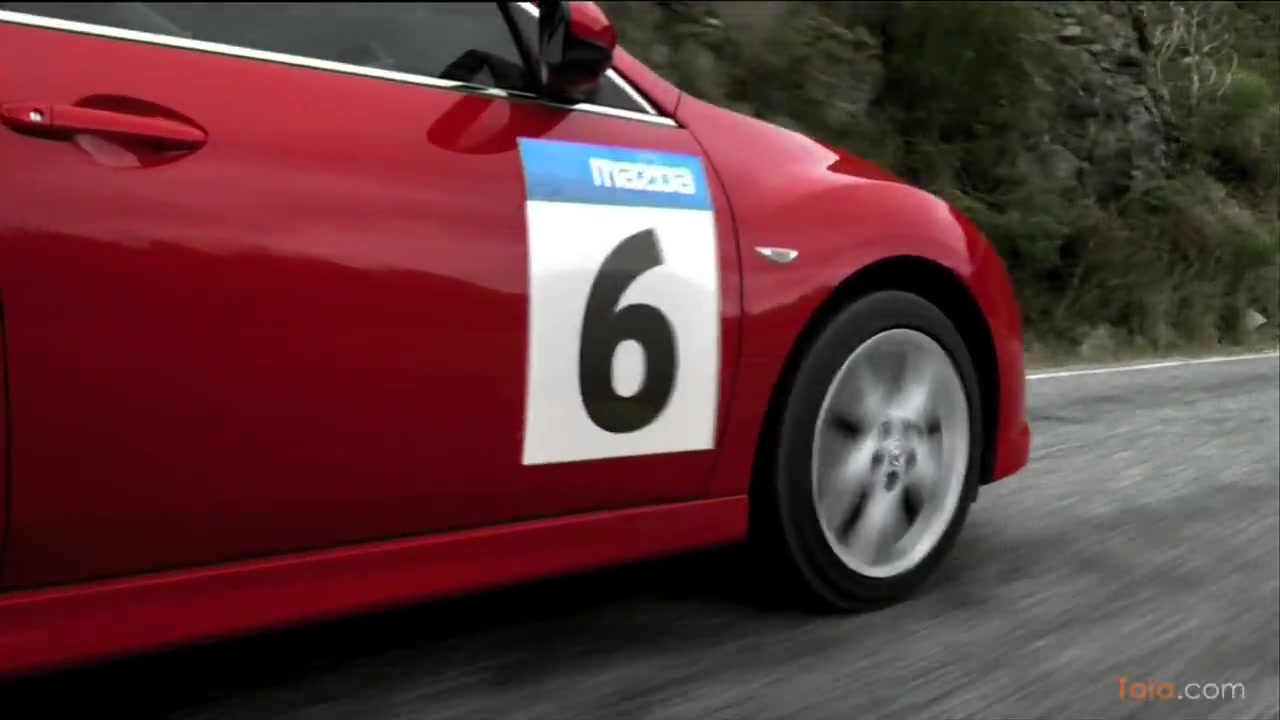car: (3, 1, 1032, 686)
